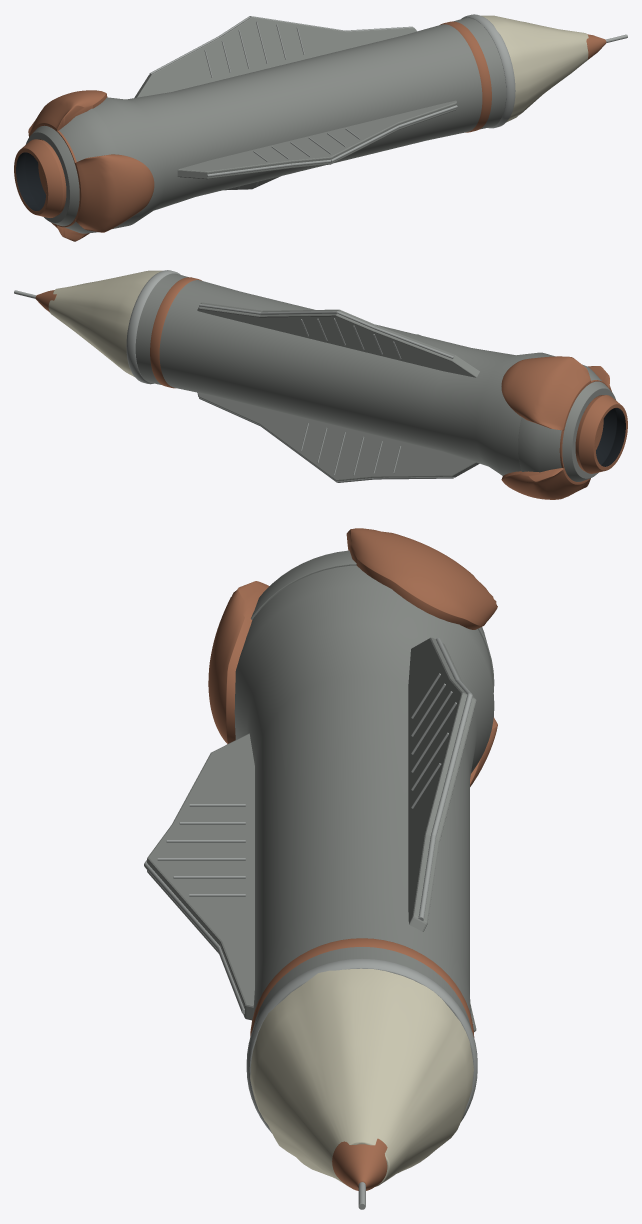
3 renders of one model, top to bottom at view 1: azimuth 30°, elevation 25°; view 2: azimuth 150°, elevation 25°; view 3: azimuth 270°, elevation 25°, orthographic. The views are drawn at different scales.
Visible parts, largest first — view 1: TI097 / Mega cylindrical pressure casing, TI097 / Mega solid diamond vane.002, TI097 / Mega solid diamond vane, TI097 / Mega ivory nose cone, TI097 / Mega thick copper lower panel, TI097 / Mega hollow lower casing, TI097 / Mega hollow copper nozzle, TI097 / Mega thick copper lower panel.002, TI097 / Mega copper nose retaining band, TI097 / Mega upper silver nose collar, TI097 / Mega annular nozzle support; view 2: TI097 / Mega cylindrical pressure casing, TI097 / Mega solid diamond vane.001, TI097 / Mega solid diamond vane.002, TI097 / Mega ivory nose cone, TI097 / Mega thick copper lower panel.002, TI097 / Mega hollow lower casing, TI097 / Mega hollow copper nozzle, TI097 / Mega thick copper lower panel.001, TI097 / Mega upper silver nose collar, TI097 / Mega copper nose retaining band, TI097 / Mega annular nozzle support; view 3: TI097 / Mega cylindrical pressure casing, TI097 / Mega ivory nose cone, TI097 / Mega solid diamond vane, TI097 / Mega solid diamond vane.002, TI097 / Mega thick copper lower panel.002, TI097 / Mega thick copper lower panel, TI097 / Mega upper silver nose collar, TI097 / Mega copper nose tip, TI097 / Mega copper nose retaining band, TI097 / Mega hollow lower casing.
Boxes of the visible parts, <box> form: TI097 / Mega cylindrical pressure casing: <box>93,17,506,228</box>; TI097 / Mega solid diamond vane.002: <box>134,17,417,97</box>; TI097 / Mega solid diamond vane: <box>177,100,456,179</box>; TI097 / Mega ivory nose cone: <box>481,15,588,122</box>; TI097 / Mega thick copper lower panel: <box>75,154,154,232</box>; TI097 / Mega hollow lower casing: <box>26,108,118,233</box>; TI097 / Mega hollow copper nozzle: <box>14,139,66,217</box>; TI097 / Mega thick copper lower panel.002: <box>28,90,107,136</box>; TI097 / Mega copper nose retaining band: <box>440,21,491,132</box>; TI097 / Mega upper silver nose collar: <box>461,14,515,128</box>; TI097 / Mega annular nozzle support: <box>33,125,79,227</box>; TI097 / Mega cylindrical pressure casing: <box>135,273,555,475</box>; TI097 / Mega solid diamond vane.001: <box>197,392,479,481</box>; TI097 / Mega solid diamond vane.002: <box>197,302,479,377</box>; TI097 / Mega ivory nose cone: <box>48,270,162,376</box>; TI097 / Mega thick copper lower panel.002: <box>501,356,590,430</box>; TI097 / Mega hollow lower casing: <box>518,364,616,481</box>; TI097 / Mega hollow copper nozzle: <box>575,395,627,473</box>; TI097 / Mega thick copper lower panel.001: <box>501,468,590,499</box>; TI097 / Mega upper silver nose collar: <box>126,270,180,384</box>; TI097 / Mega copper nose retaining band: <box>150,277,201,388</box>; TI097 / Mega annular nozzle support: <box>559,380,608,482</box>; TI097 / Mega cylindrical pressure casing: <box>234,565,494,1028</box>; TI097 / Mega ivory nose cone: <box>250,968,473,1186</box>; TI097 / Mega solid diamond vane: <box>147,733,254,1020</box>; TI097 / Mega solid diamond vane.002: <box>408,637,476,931</box>; TI097 / Mega thick copper lower panel.002: <box>346,528,497,629</box>; TI097 / Mega thick copper lower panel: <box>208,581,269,743</box>; TI097 / Mega upper silver nose collar: <box>246,958,477,1132</box>; TI097 / Mega copper nose tip: <box>332,1138,387,1190</box>; TI097 / Mega copper nose retaining band: <box>250,938,474,1037</box>; TI097 / Mega hollow lower casing: <box>251,550,494,692</box>.
Size of the model in its own units: 6.46 by 1.78 by 1.66.
